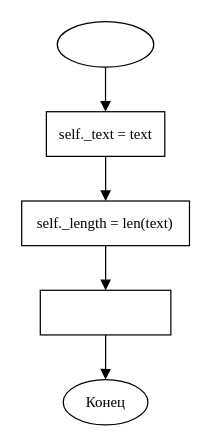
Image size: 212x448. Some labels were removed from this diagram. The shapes that lost their labels are listed below. From the top down, each one's centre as x and y in pixels, then its label:
pixel 105 43: Начало
pixel 105 312: self._position = 0
